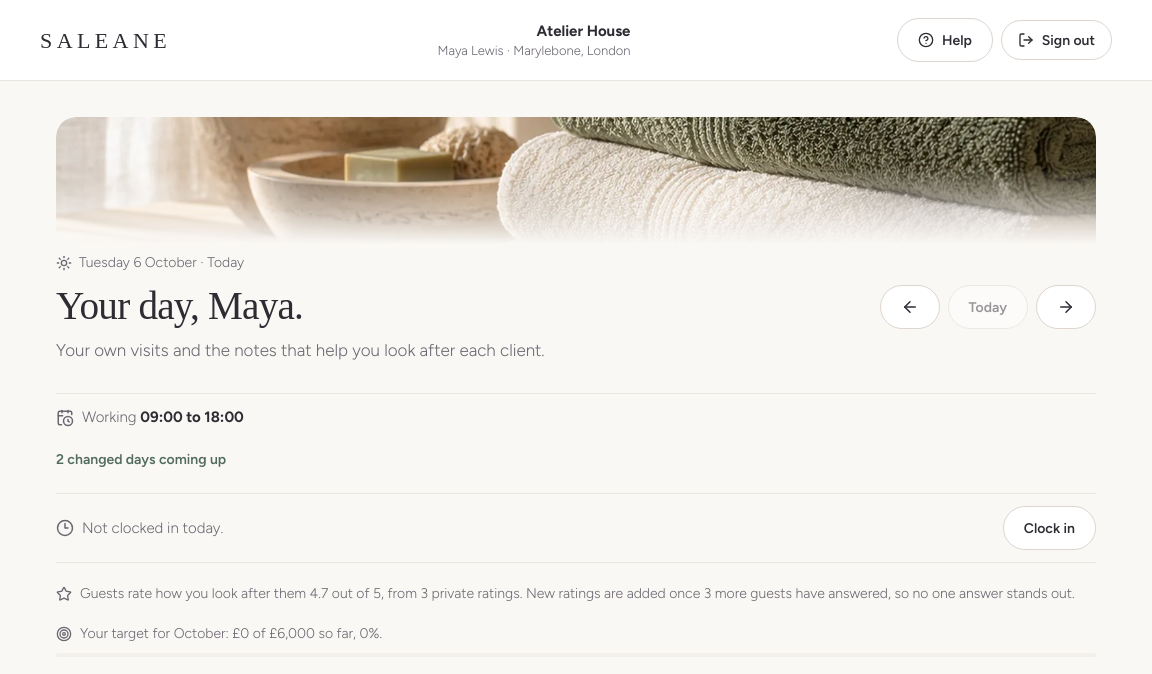
keeps the day open and says so when sign out cannot be confirmed
Click the button "Sign out" at {"x": 1056, "y": 40}, box [1001, 20, 1112, 60]
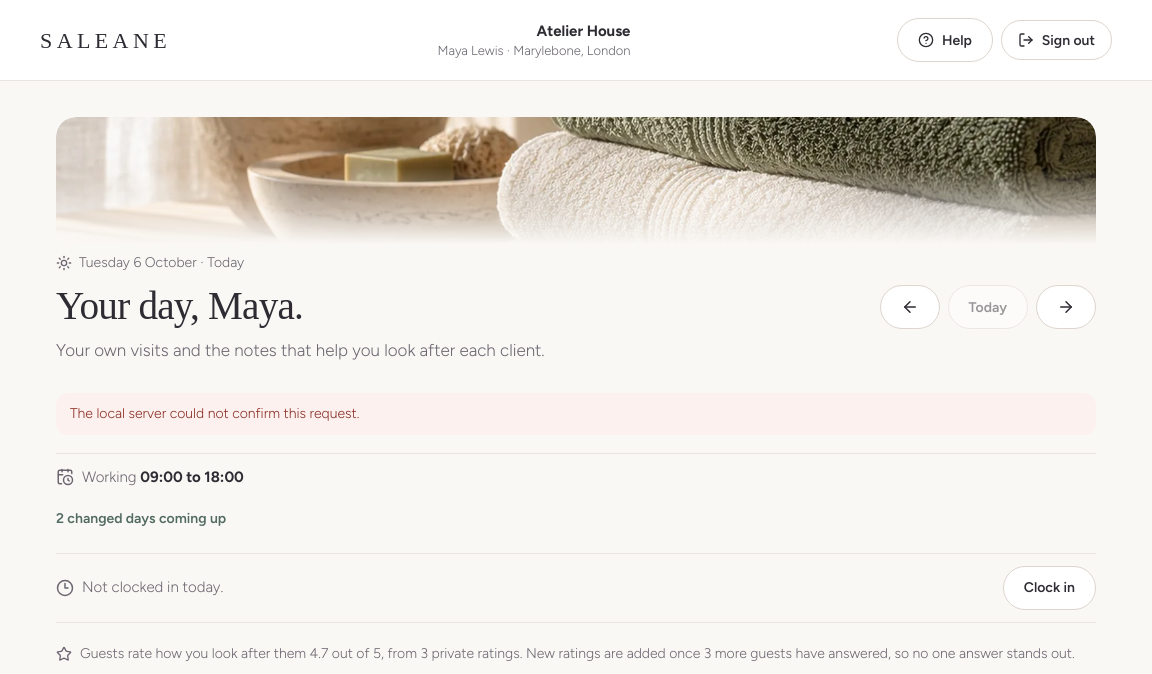
expect the message reads "The local server could not confirm this request.": met, box [70, 405, 359, 422]
